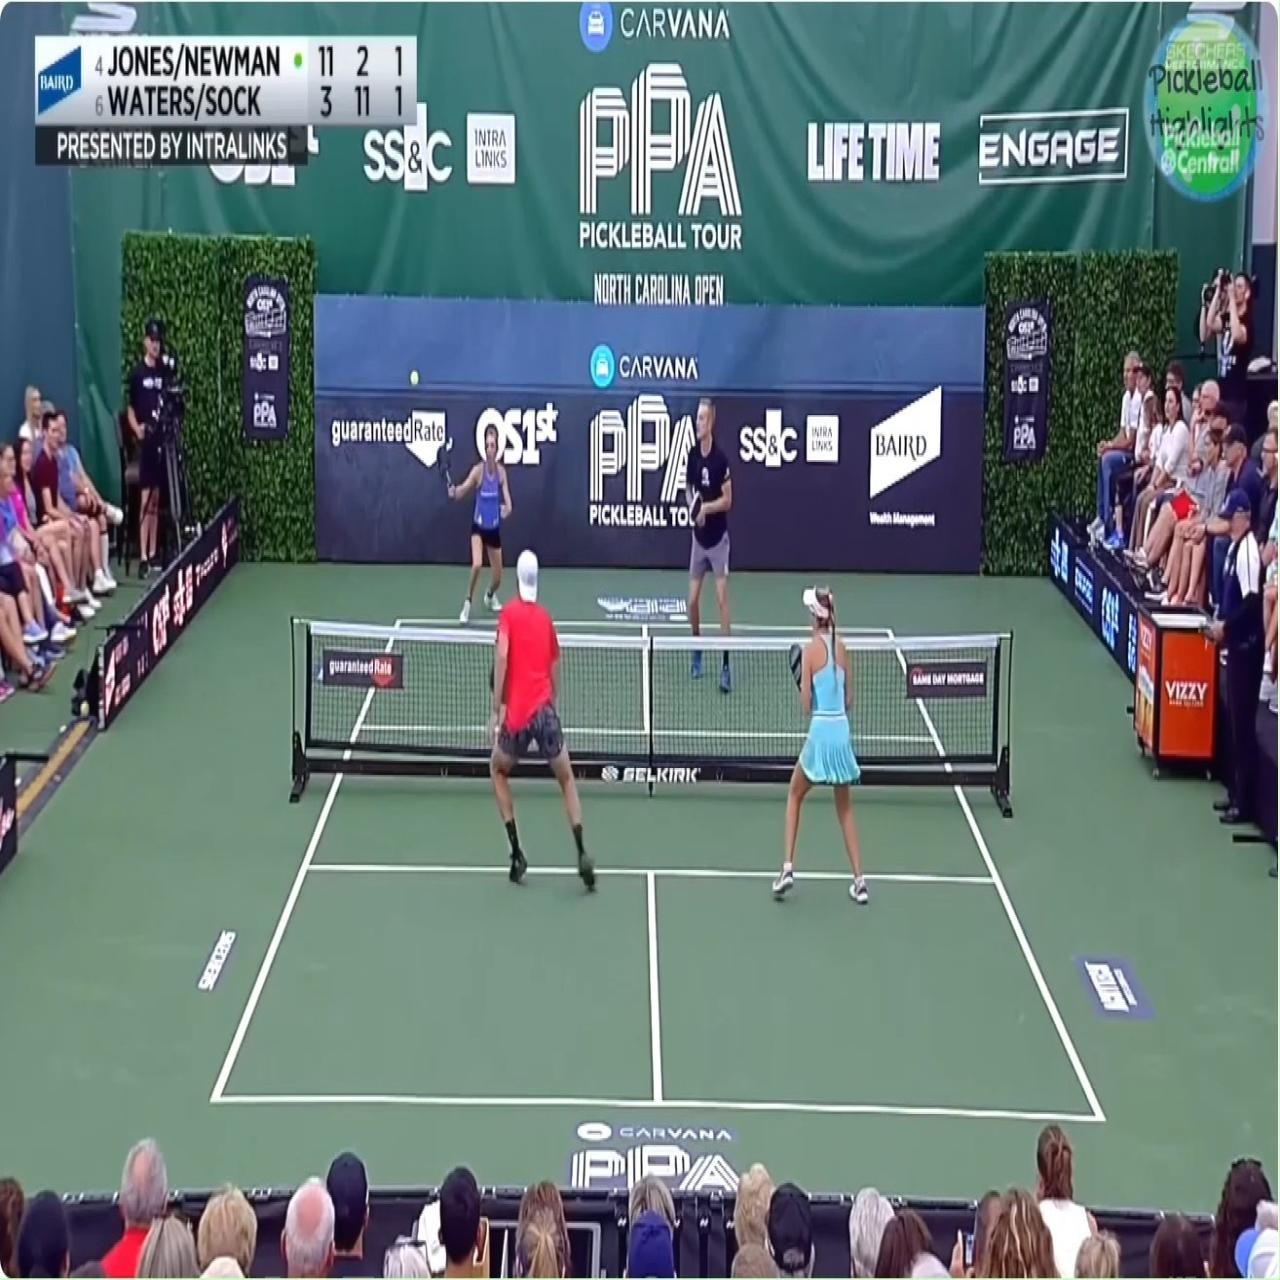pickleball: (410, 370, 418, 386)
